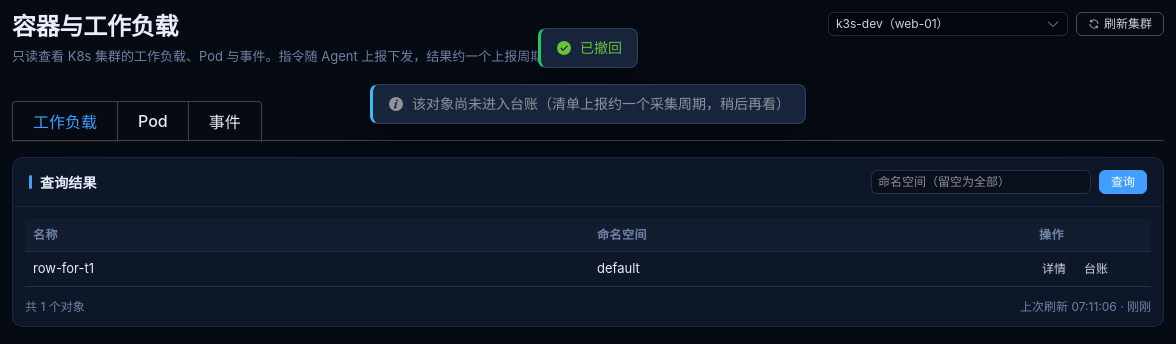
Test: ContainerView 容器与工作负载页 › 点「查询」= 手动刷新：会重新下发并更新时间
Click the button "查询".
click(1123, 182)  # box [1099,170,1147,194]
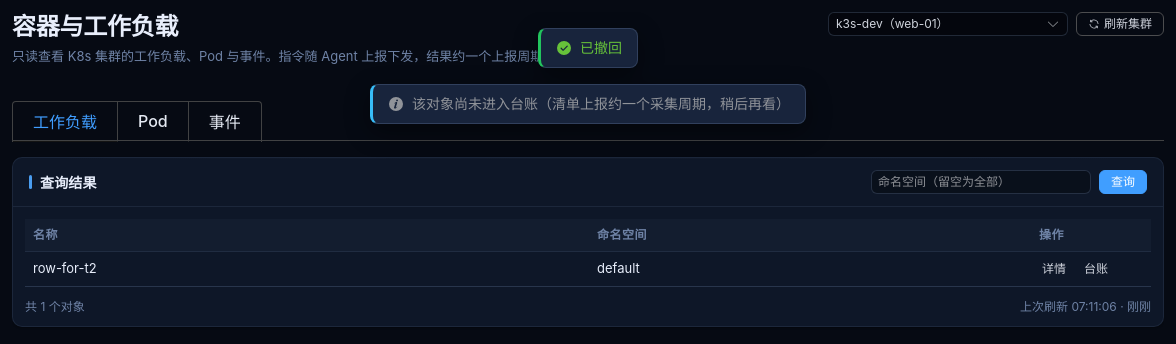
Expected: the text "上次刷新" is shown, [1020,298,1151,314]
Expected: the text "row-for-t2" is shown, [33,260,97,276]
